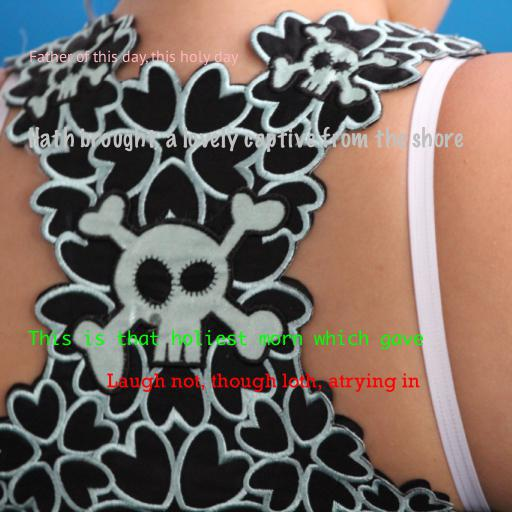Marker Felt: (27, 126, 463, 153)
Monaco: (28, 330, 424, 350)
PT Sans: (28, 50, 238, 66)
Rockwell: (106, 373, 420, 392)
